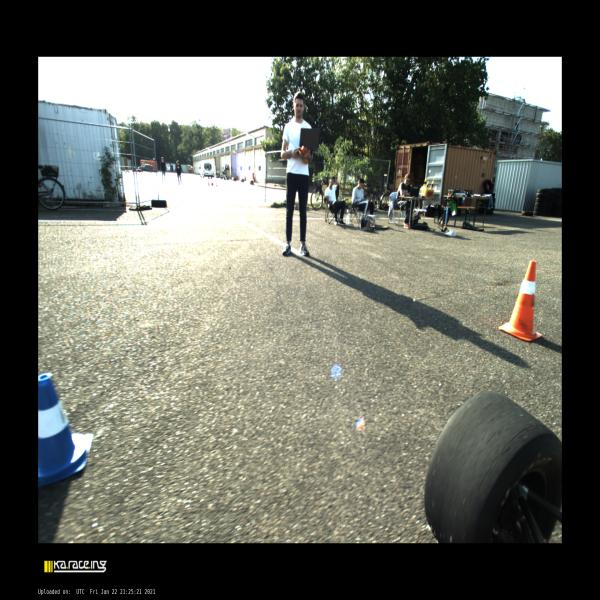blue_cone: (39, 372, 94, 487)
large_orange_cone: (498, 260, 542, 343)
yellow_cone: (429, 180, 434, 191), (422, 178, 427, 188), (425, 181, 429, 191)
